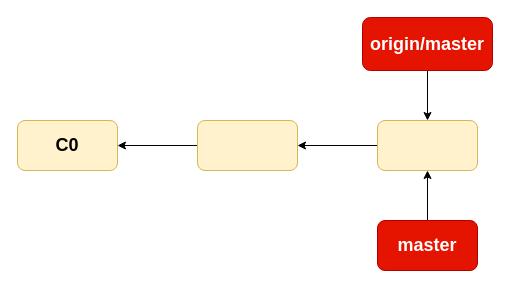
Some shapes in this 510 by 288 pixel diagram are drawn without their labels. The shapes that lost their labels are listed below. From the top down, each one's centre as x and y in pixels, then its label:
At (247,145): "C1".
At (427,145): "C2".
